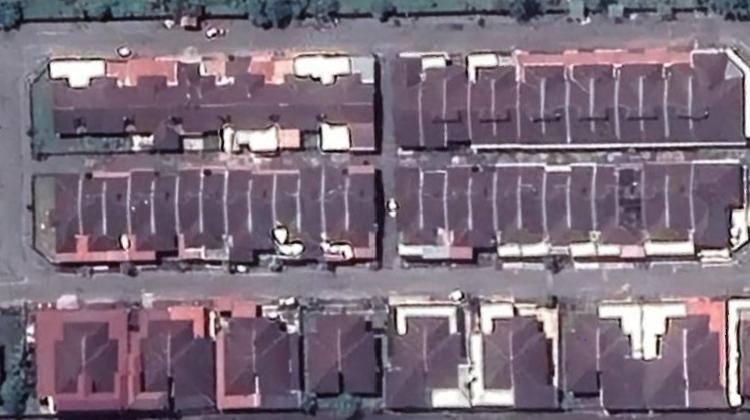building: (692, 49, 747, 147), (379, 312, 430, 412), (171, 316, 221, 414), (603, 311, 649, 416), (696, 159, 746, 253), (515, 312, 560, 413), (650, 312, 692, 414), (692, 312, 733, 411), (43, 170, 86, 256), (390, 54, 427, 151), (565, 310, 604, 400), (169, 59, 205, 156), (257, 312, 296, 397), (343, 311, 381, 398), (221, 313, 260, 397), (431, 313, 472, 392), (132, 71, 170, 155), (305, 311, 342, 397), (136, 315, 173, 395), (390, 164, 425, 248), (480, 314, 517, 393), (522, 59, 553, 151), (52, 319, 88, 396), (571, 60, 601, 148), (87, 319, 121, 395), (622, 59, 651, 148), (671, 59, 699, 147), (475, 161, 502, 251), (647, 58, 674, 147), (524, 159, 551, 247), (549, 59, 575, 150), (574, 160, 601, 247), (44, 74, 81, 137), (133, 167, 160, 253), (232, 164, 258, 252), (598, 60, 624, 148), (473, 62, 499, 149), (550, 160, 576, 247), (425, 166, 452, 249), (449, 161, 475, 247), (183, 163, 208, 252), (499, 62, 524, 150), (624, 161, 649, 249), (673, 158, 698, 246), (159, 168, 184, 255), (207, 164, 232, 251), (427, 63, 451, 151), (599, 160, 623, 248), (256, 167, 280, 252), (649, 159, 672, 247), (450, 61, 474, 145), (86, 173, 111, 253), (110, 170, 134, 253), (81, 71, 111, 137), (502, 162, 525, 246), (304, 164, 330, 237), (352, 168, 380, 235), (279, 166, 304, 236), (203, 70, 228, 137), (227, 70, 253, 134), (328, 167, 351, 237), (326, 68, 351, 129), (352, 69, 378, 127), (253, 72, 277, 134), (301, 72, 324, 136), (111, 74, 133, 136), (278, 71, 300, 133)
